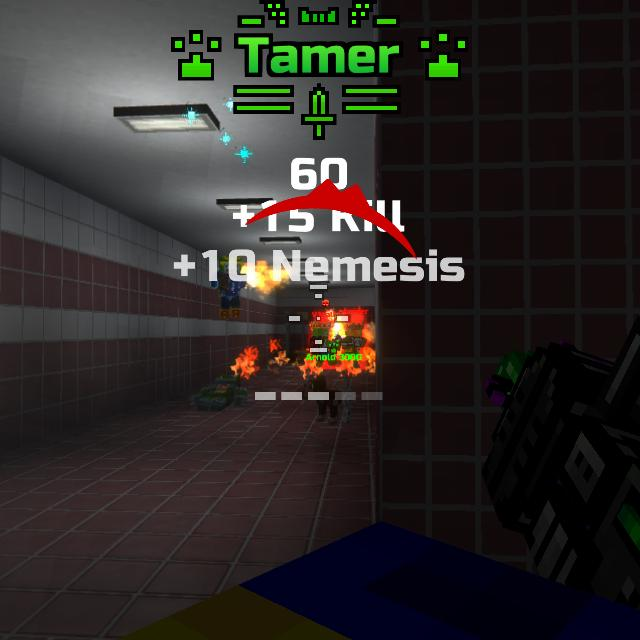Enemy: (336, 323, 368, 374), (309, 325, 340, 371)
